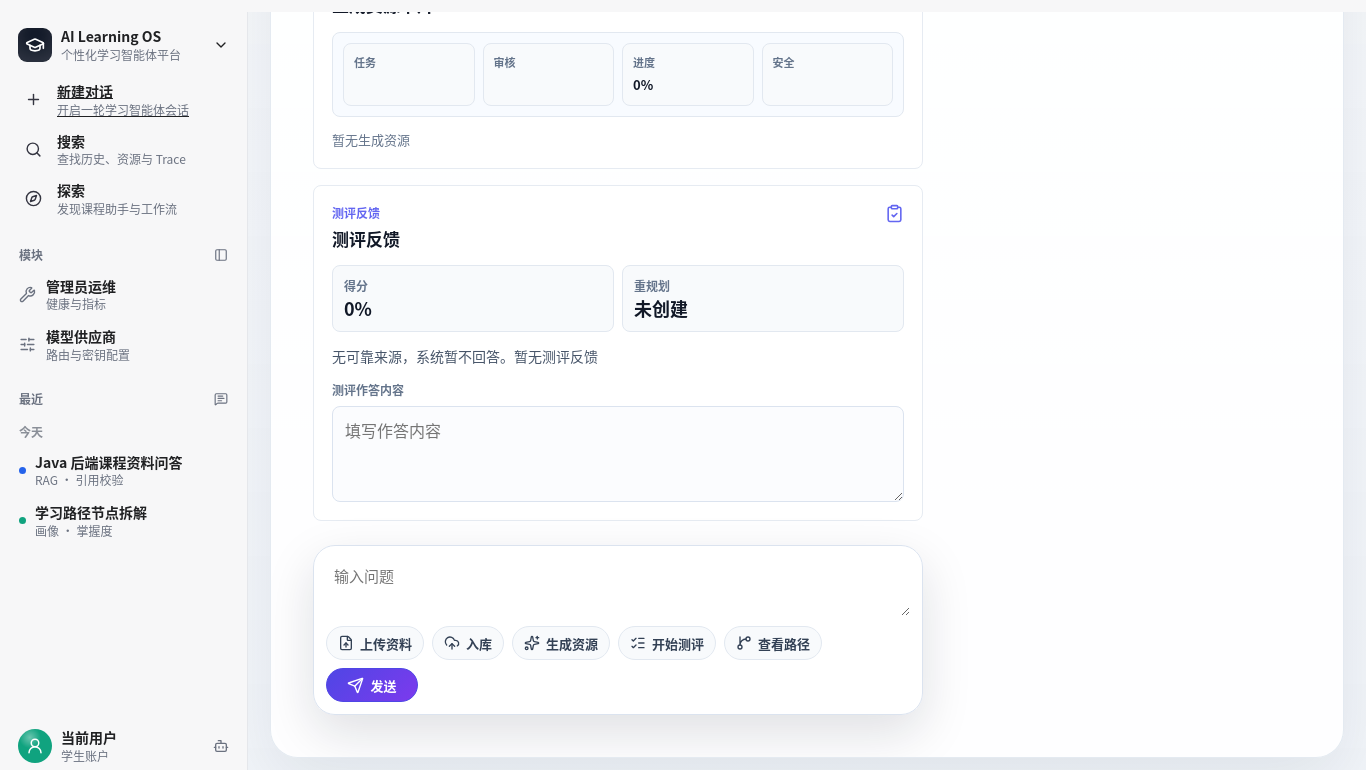
Test: AI Learning OS workbench › groups student resources by review status and refreshes generation task state
This screenshot has width=1366, height=770.
(page scrolled)
Click the button with test id "generate-resources".
click(561, 643)  # box [512,626,610,660]
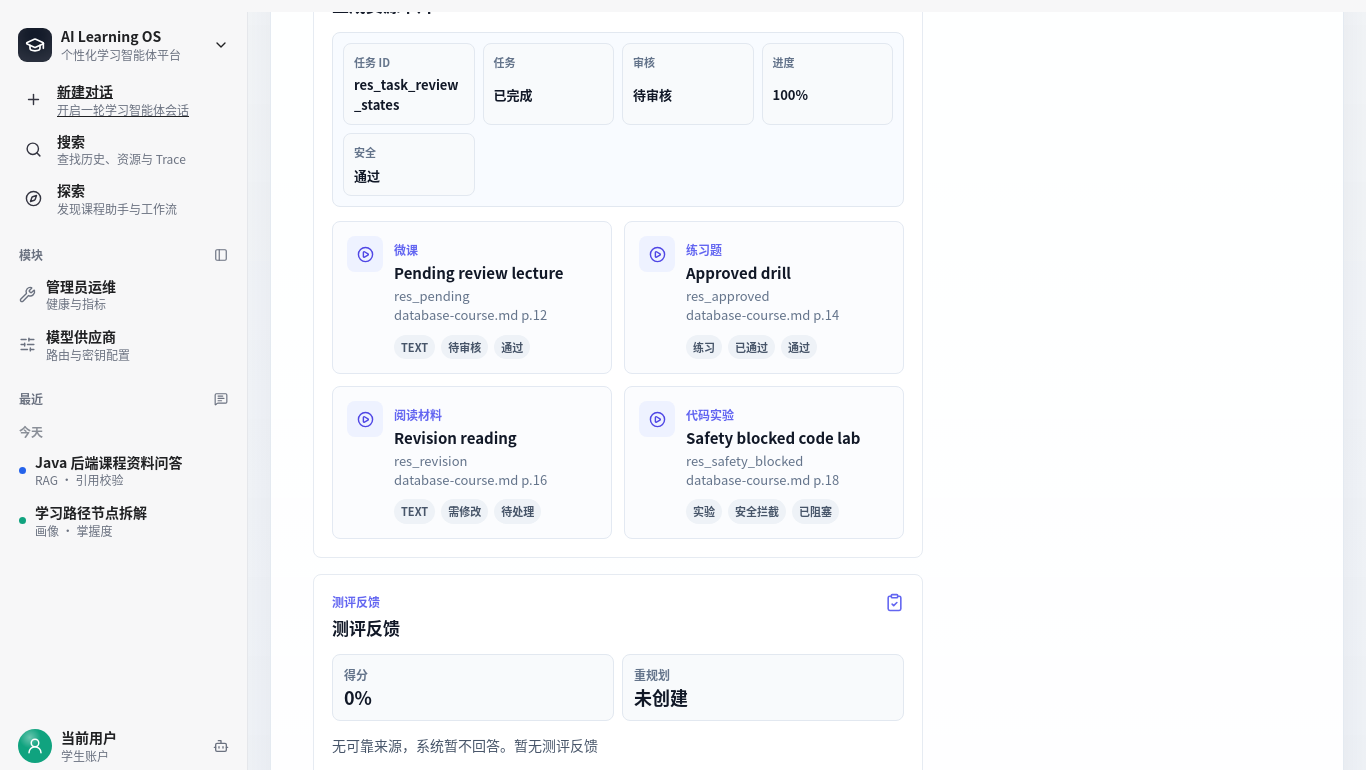
Check: the element with test id "resource-task-summary" shows "已完成", box [494,85,532,104]
Check: the element with test id "resource-task-summary" shows "待审核", box [633,85,672,104]
Check: the element with test id "resource-task-summary" shows "100%", box [772,85,808,104]
